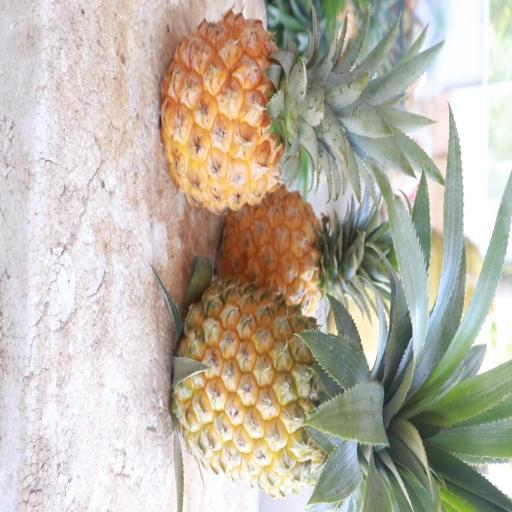Pineapple - v8 v1: (172, 274, 387, 502), (158, 7, 356, 220), (219, 181, 380, 323)
